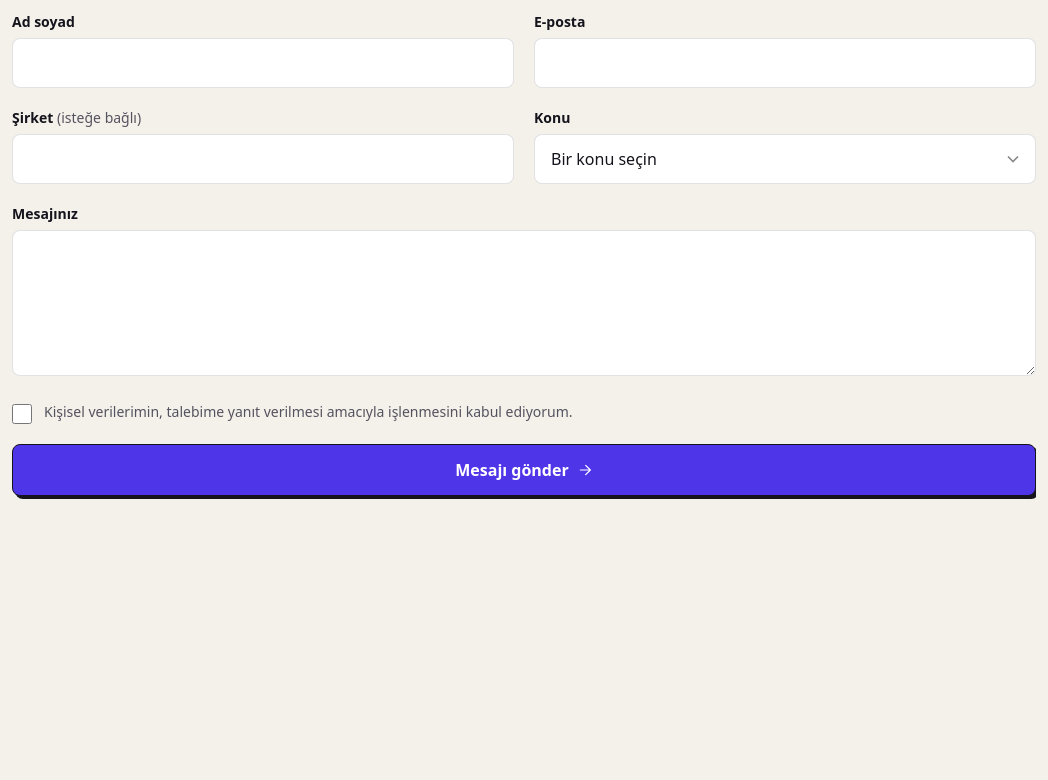
it: ContactForm › boş gönderimde alan hatalarını gösterir ve isteği göndermez
Click the button "Mesajı gönder" at (524, 470), box [12,444,1036,496]
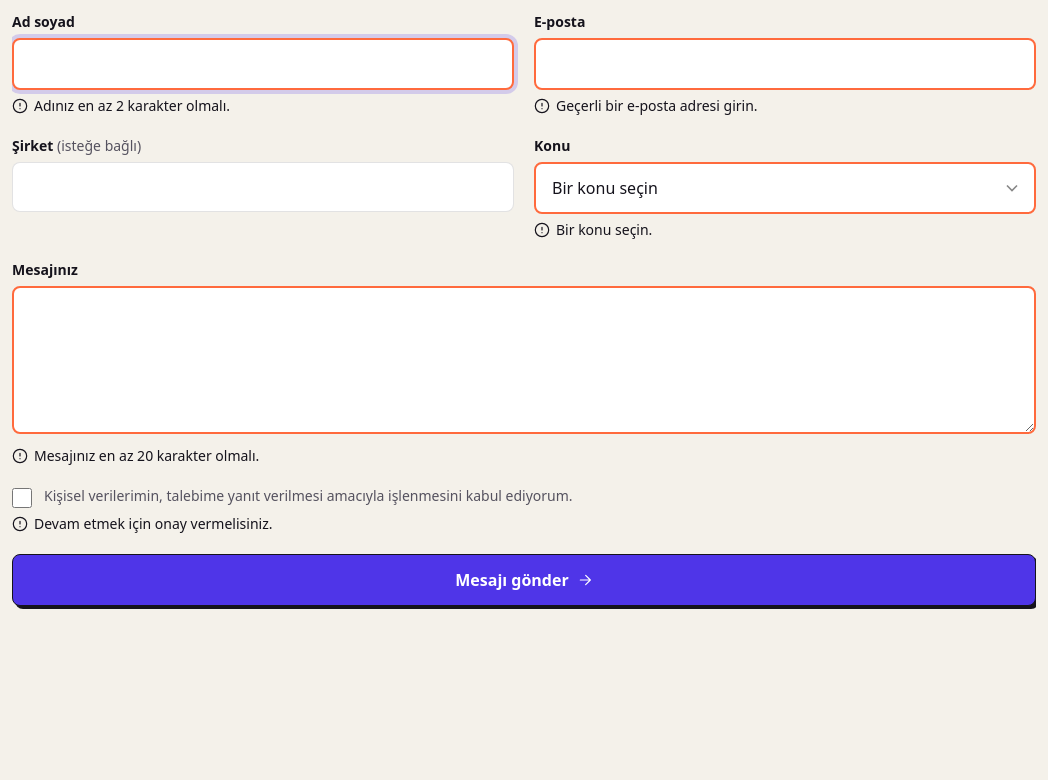
Result: the text "Adınız en az 2 karakter olmalı." is shown at [11,96,230,124]
Result: the text "Geçerli bir e-posta adresi girin." is shown at [533,96,758,124]
Result: the text "Bir konu seçin." is shown at [533,220,652,248]
